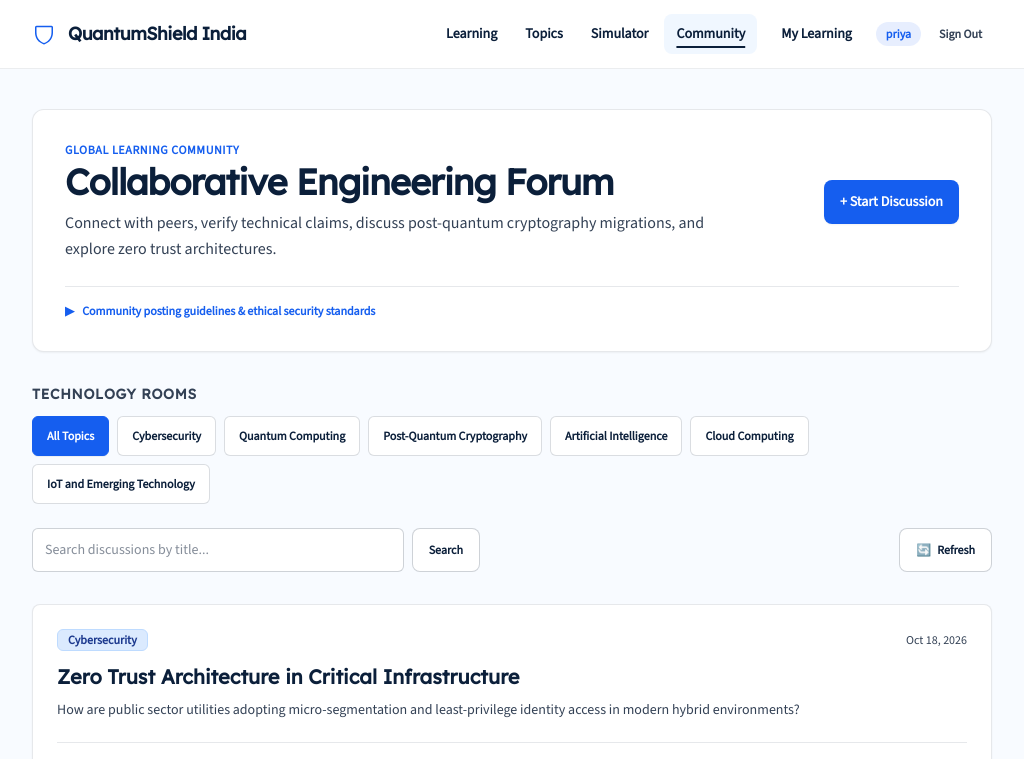
Test: Global Learning Community Integration Flow › allows authenticated learners to open composer and post a new discussion
Click the button "+ Start Discussion" at (891, 202), box [824, 180, 959, 224]
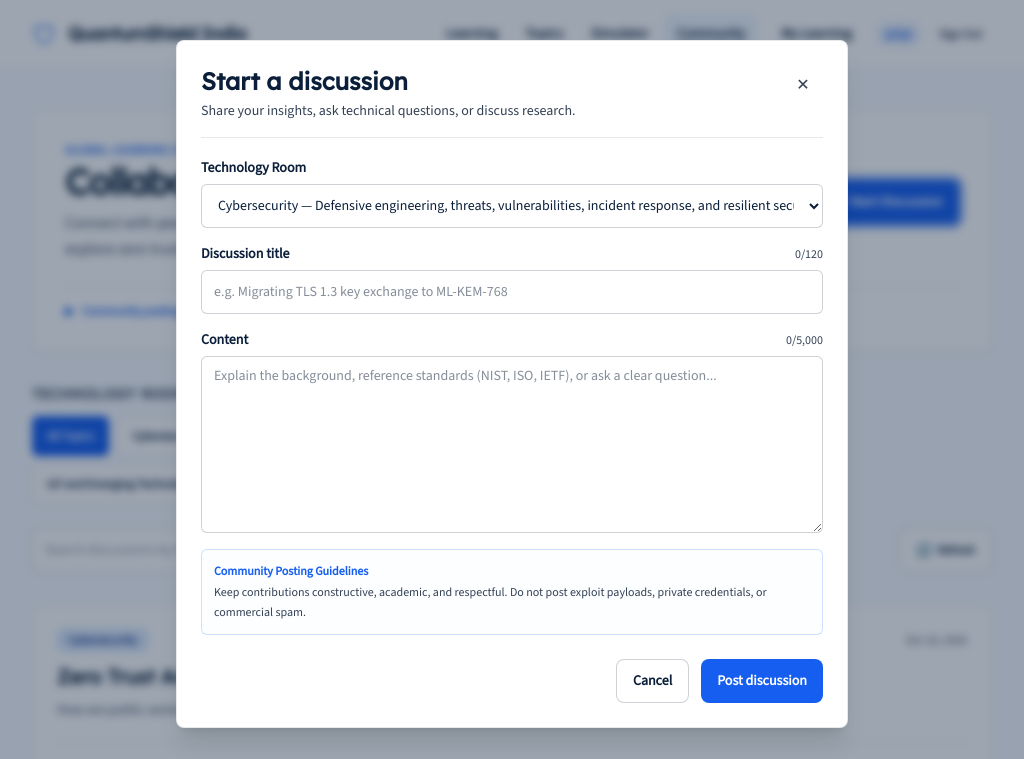
Now the heading "Start a discussion" is shown, box [201, 66, 408, 96]
Type "Evaluating Falcon and Dilithium in IoT" into the field labelled "Discussion title" at (512, 292), box [201, 270, 823, 314]
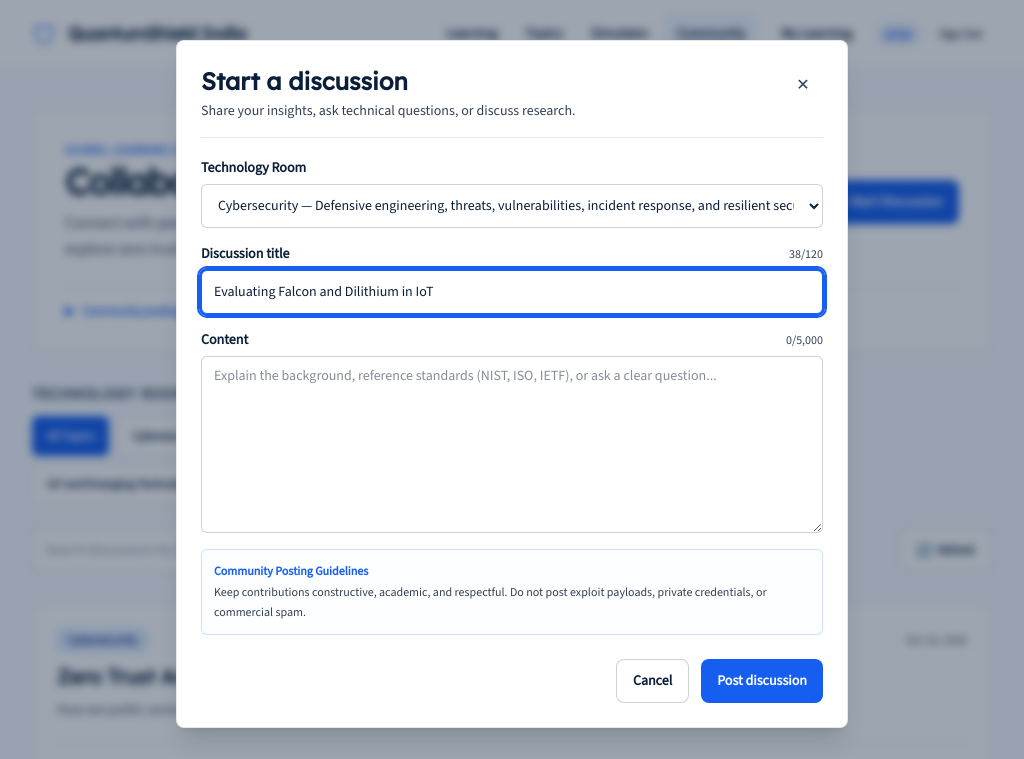
Type "What memory constraints are most significant when verifying SLH-DSA signatures on constrained ARM Cortex-M4 microcontrollers?" into the text box labelled "Content" at (512, 444), box [201, 356, 823, 533]
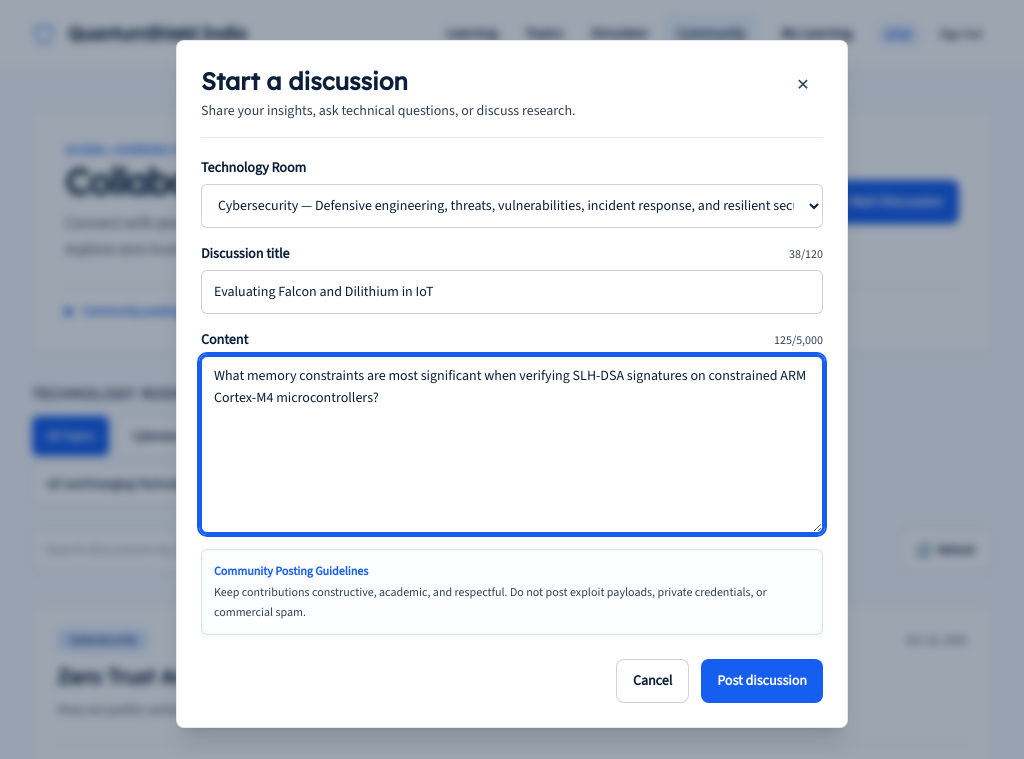
Click the button "Post discussion" at (762, 681), box [701, 659, 823, 703]
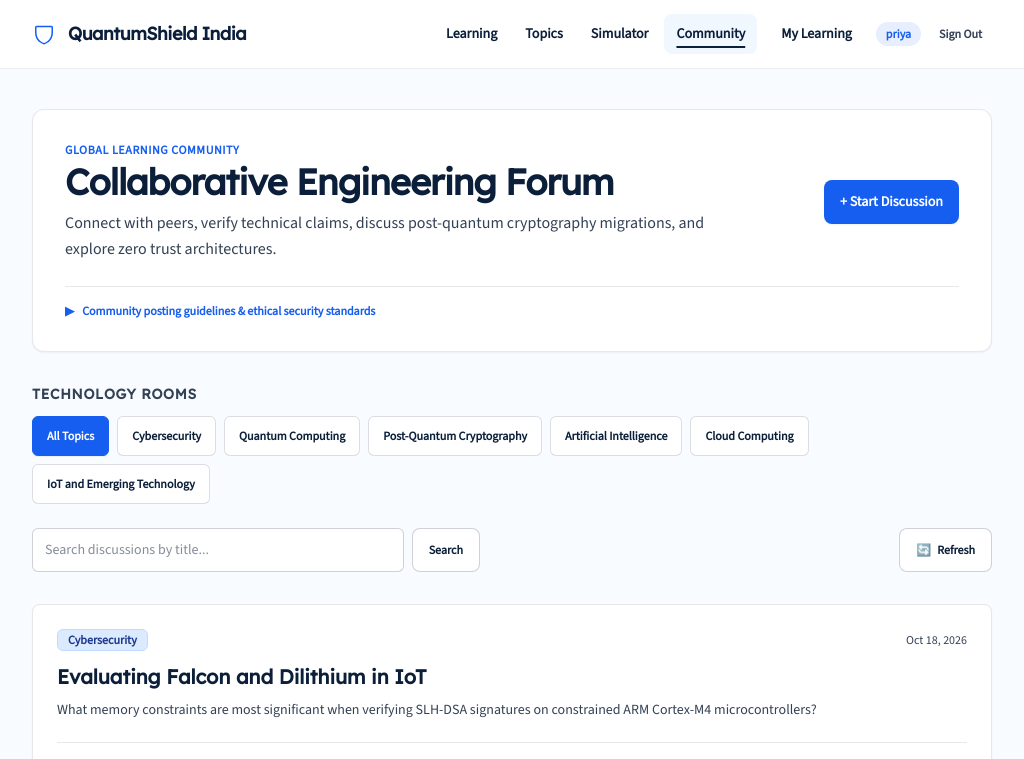
Now the link "Evaluating Falcon and Dilithium in IoT" is shown, box [57, 664, 427, 689]
